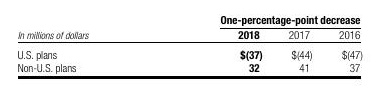table: (0, 0, 378, 94)
